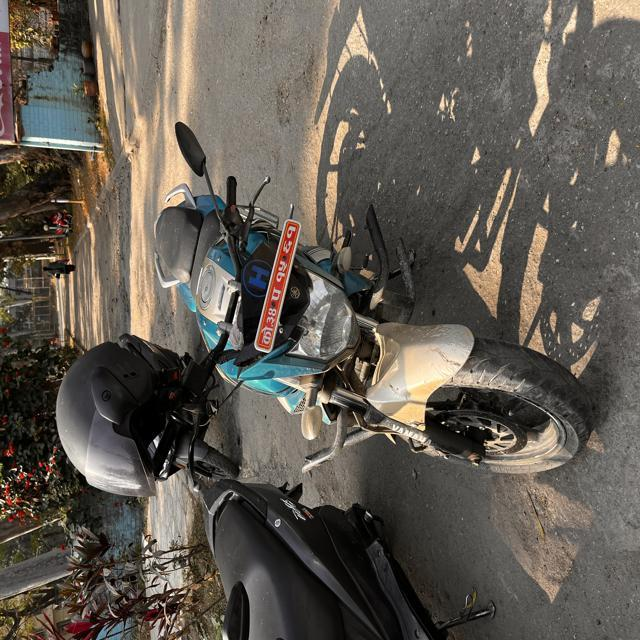license_plate: (236, 206, 312, 369)
